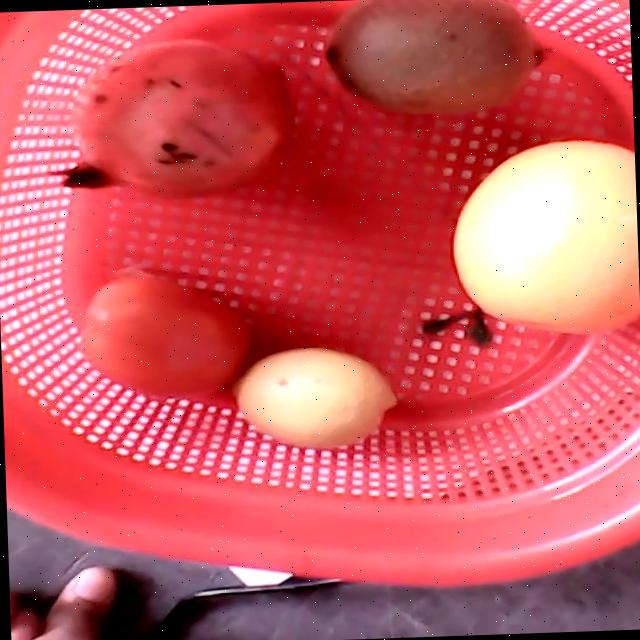lemon: (238, 348, 400, 447)
orange: (452, 140, 635, 332)
pomegranate: (323, 0, 547, 109)
tomato: (81, 275, 250, 396)
